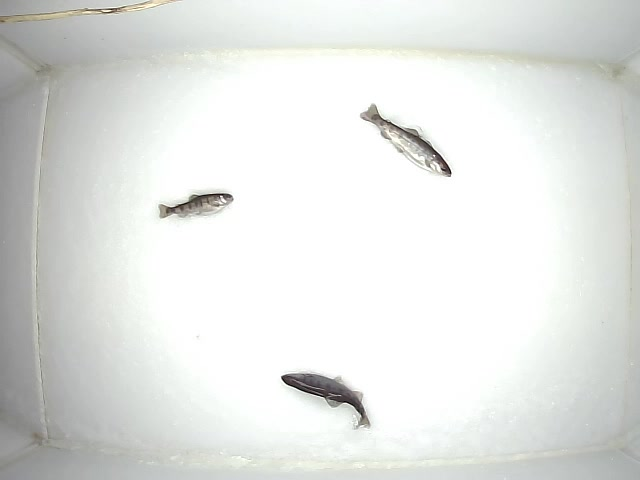fish: (358, 102, 451, 178), (279, 372, 373, 430), (156, 191, 233, 222)
